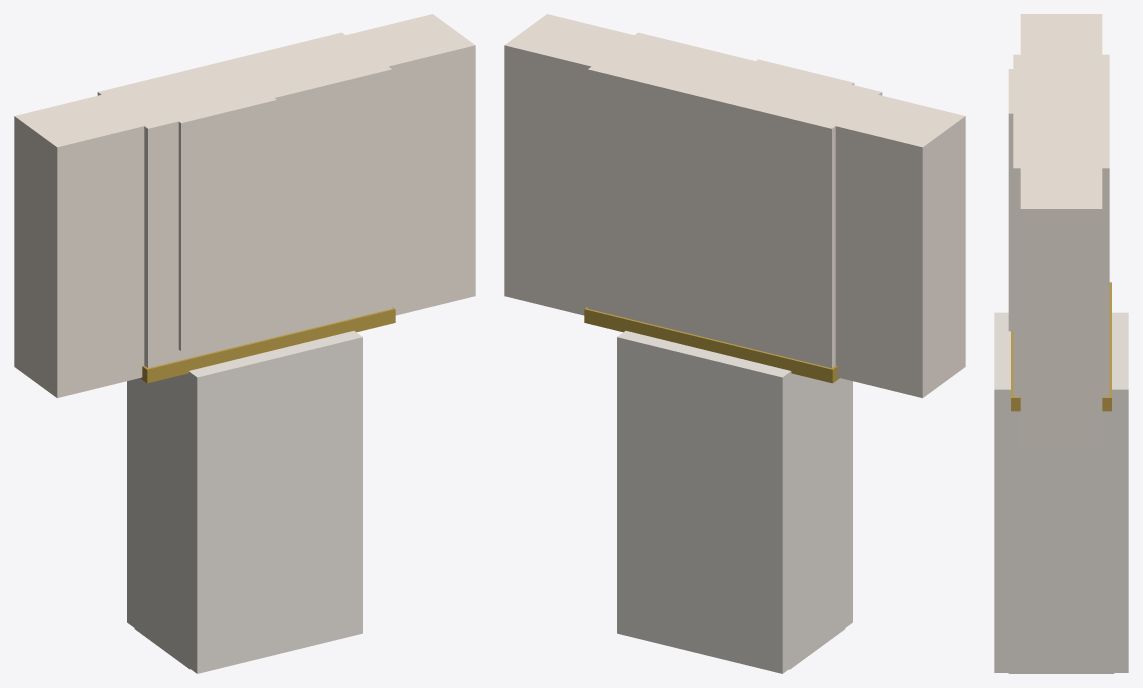
Rendered from daura_suruwal.glb.
3 views of the same model, side by side, from view 1: azimuth 30°, elevation 25°; view 2: azimuth 150°, elevation 25°; view 3: azimuth 270°, elevation 25° (orthographic). The views are drawn at different scales.
Size of the model in its own units: 0.96 by 1.2 by 0.28.
